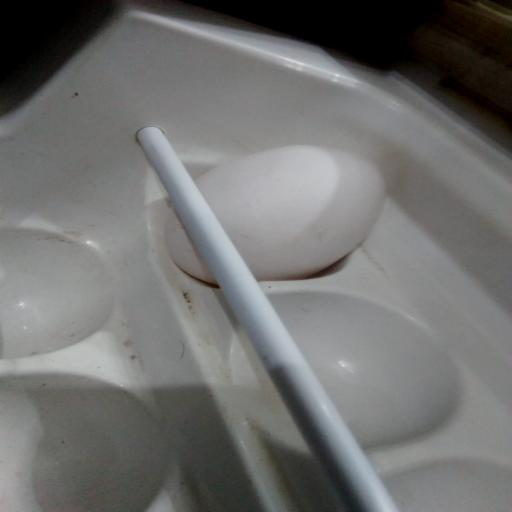telur: (159, 136, 397, 287)
